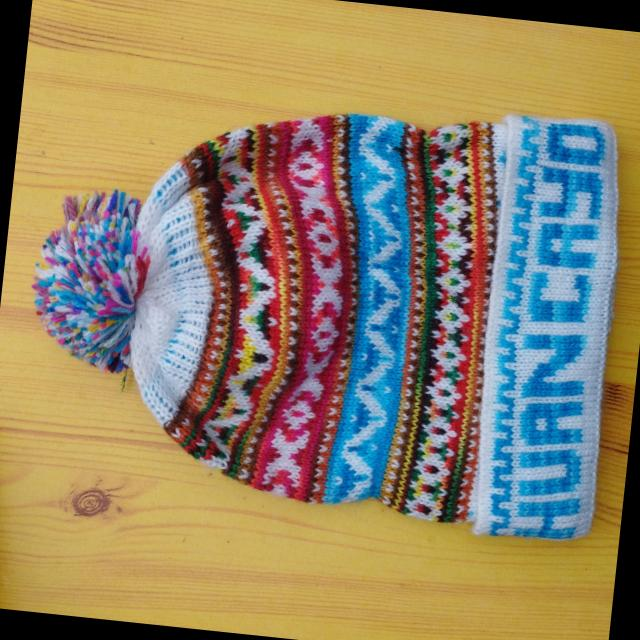Gorro: (10, 62, 636, 547)
